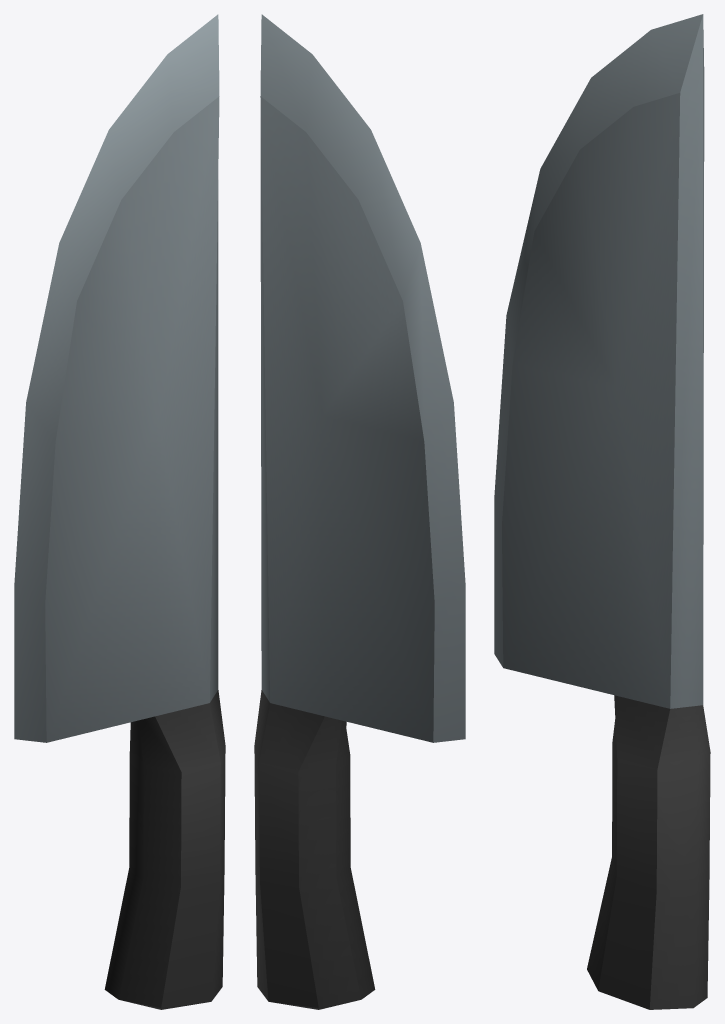
File: knife.obj
The picture shows the model from 3 angles, left to right: view 1: azimuth 30°, elevation 25°; view 2: azimuth 150°, elevation 25°; view 3: azimuth 330°, elevation 25°; orthographic projection. The views are drawn at different scales.
Parts seen in each view (by area): view 1: knife_Cube.114; view 2: knife_Cube.114; view 3: knife_Cube.114.
Part boxes in pixels (x1,y1,x2,y2): knife_Cube.114: (14, 14, 225, 1009); knife_Cube.114: (254, 14, 465, 1009); knife_Cube.114: (494, 14, 710, 1009).
Size of the model in its own units: 0.25 by 1.15 by 0.1.
Materials: 1 (1 with a texture image).
